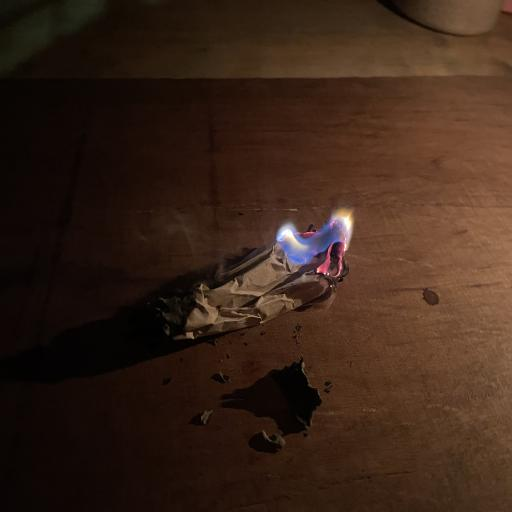fire: (266, 168, 373, 280)
